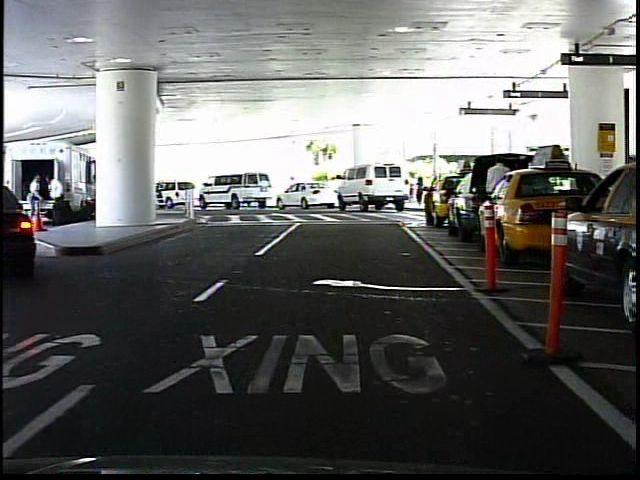person: (479, 153, 513, 242), (284, 173, 299, 204), (413, 174, 425, 204)
